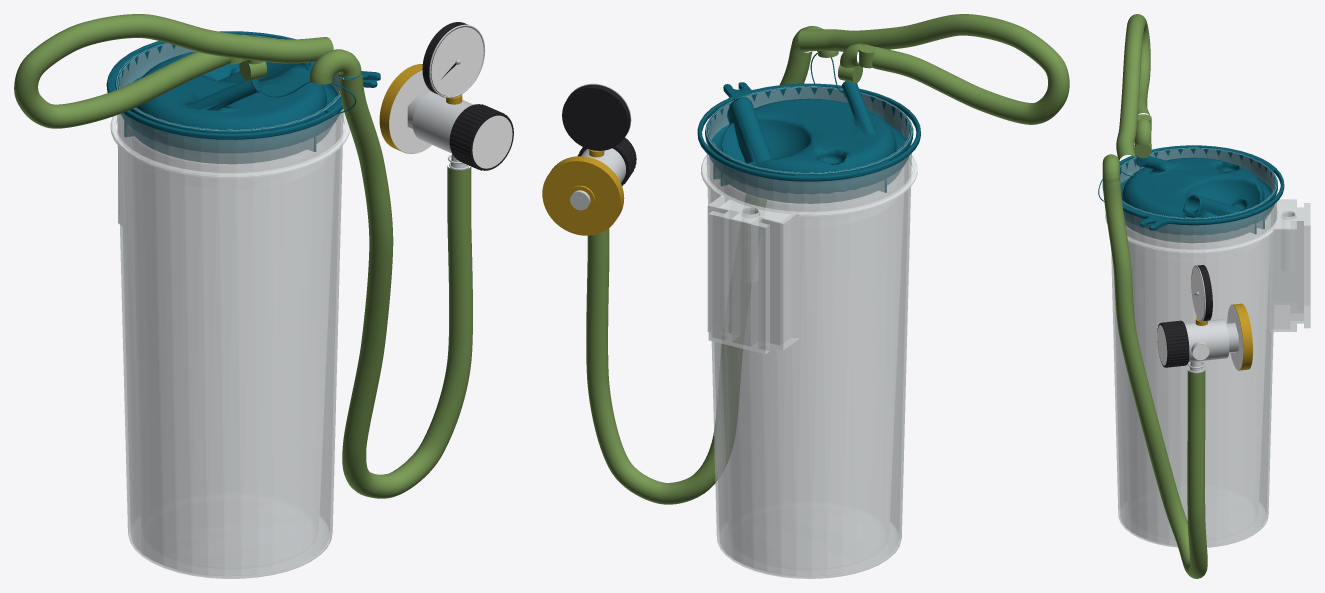
Rendered from p17-wall-suction.glb.
3 views of the same model, side by side, from view 1: azimuth 30°, elevation 25°; view 2: azimuth 150°, elevation 25°; view 3: azimuth 270°, elevation 25° (orthographic). The views are drawn at different scales.
Visible parts, largest first — view 1: vessel, vacuum-hose, lid, patient-hose, gauge-face, collar-mount, reg-body, vac-nut-face, knob-face, knob-body, vacuum-elbow-bend, vac-nut-body (+1 smaller); view 2: vessel, lid, collar-mount, patient-hose, vacuum-hose, vac-nut-back, gauge-housing, vac-nut-body; view 3: vessel, lid, vacuum-hose, collar-mount, patient-hose, reg-body, knob-body, vac-nut-body, gauge-face, vac-nut-face, vacuum-elbow-bend, gauge-housing (+3 smaller).
Boxes of the visible parts, <box> form: vessel: <box>116,34,343,578</box>; vacuum-hose: <box>338,71,472,498</box>; lid: <box>106,31,380,163</box>; patient-hose: <box>14,14,333,128</box>; gauge-face: <box>431,27,483,96</box>; collar-mount: <box>110,109,349,225</box>; reg-body: <box>412,91,473,153</box>; vac-nut-face: <box>389,70,431,153</box>; knob-face: <box>472,115,512,168</box>; knob-body: <box>449,104,513,170</box>; vacuum-elbow-bend: <box>309,49,361,84</box>; vac-nut-body: <box>379,64,429,153</box>; vessel: <box>706,86,912,578</box>; lid: <box>697,53,920,203</box>; collar-mount: <box>701,154,917,354</box>; patient-hose: <box>798,14,1069,124</box>; vacuum-hose: <box>586,45,812,504</box>; vac-nut-back: <box>543,162,619,235</box>; gauge-housing: <box>562,84,630,150</box>; vac-nut-body: <box>542,156,624,235</box>; vessel: <box>1111,147,1277,547</box>; lid: <box>1098,145,1284,242</box>; vacuum-hose: <box>1102,180,1207,578</box>; collar-mount: <box>1105,199,1310,331</box>; patient-hose: <box>1116,14,1150,161</box>; reg-body: <box>1184,319,1229,362</box>; knob-body: <box>1157,321,1189,367</box>; vac-nut-body: <box>1231,303,1252,370</box>; gauge-face: <box>1191,267,1204,319</box>; vac-nut-face: <box>1227,305,1243,370</box>; vacuum-elbow-bend: <box>1102,154,1119,182</box>; gauge-housing: <box>1195,265,1212,321</box>.
Size of the model in its own units: 321 by 349 by 155.
